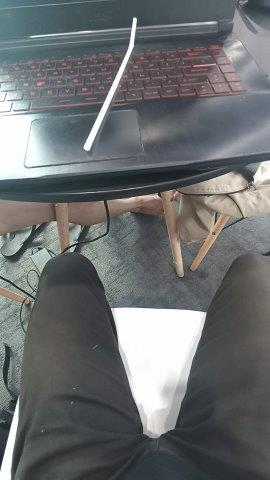sedotan: (84, 18, 137, 151)
